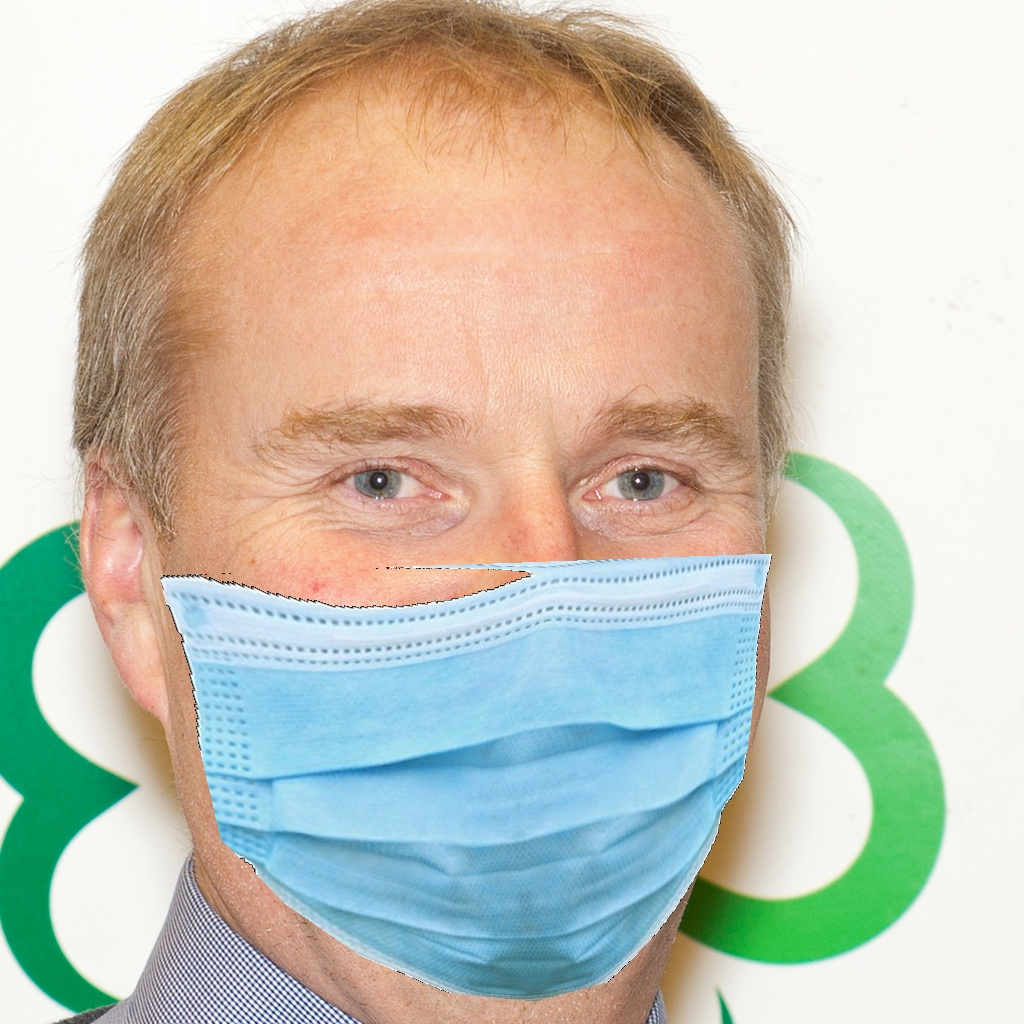Mask: (161, 333, 768, 1009)
